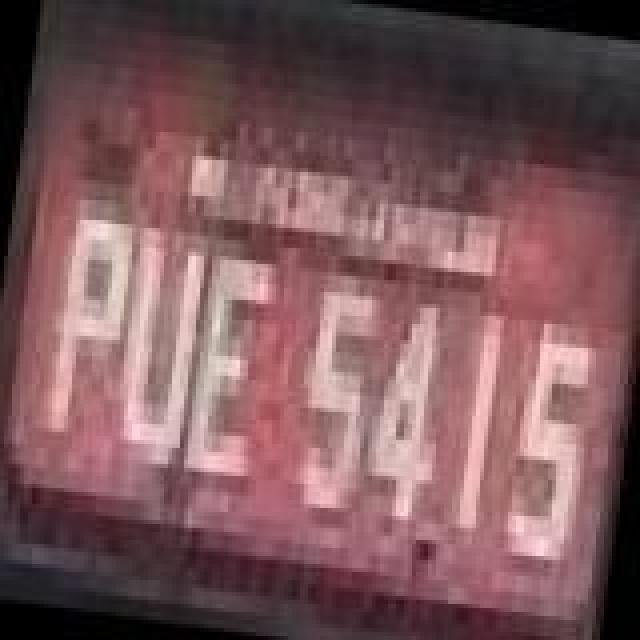1: (446, 294, 514, 538)
4: (354, 290, 462, 542)
5: (496, 304, 608, 576), (282, 272, 390, 528)
E: (182, 232, 282, 504)
P: (42, 202, 142, 454)
U: (112, 218, 216, 470)
